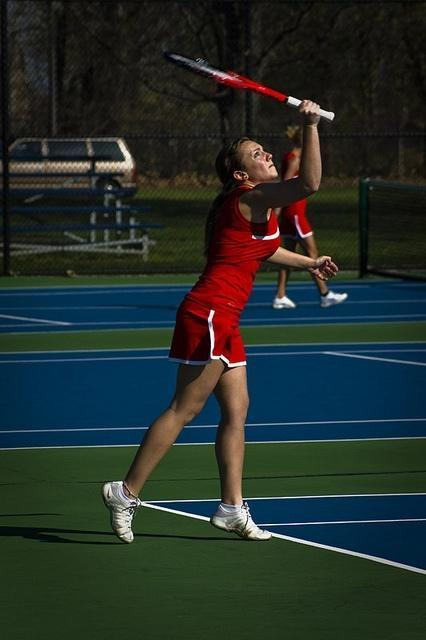car: (8, 138, 138, 202)
